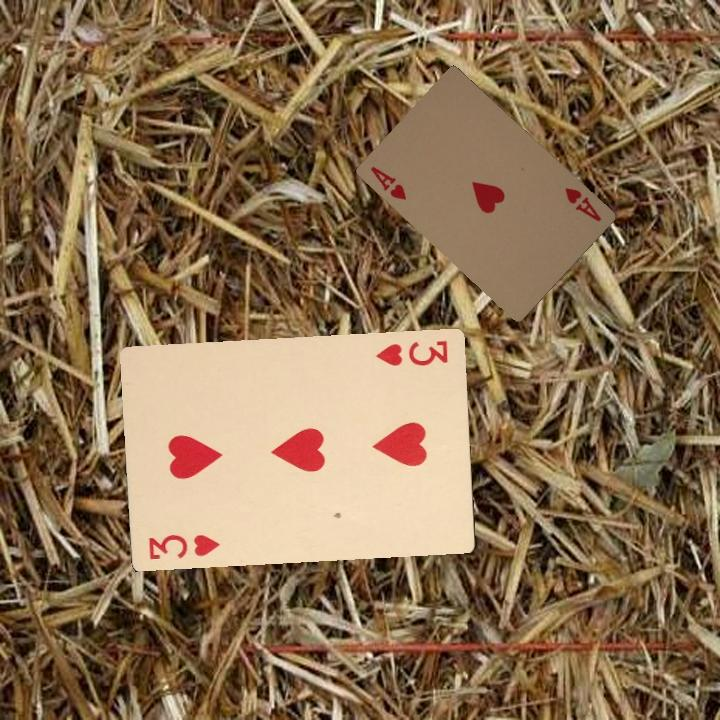3h: (371, 336, 451, 369), (144, 530, 223, 562)
Ah: (560, 183, 604, 224), (366, 162, 409, 202)
